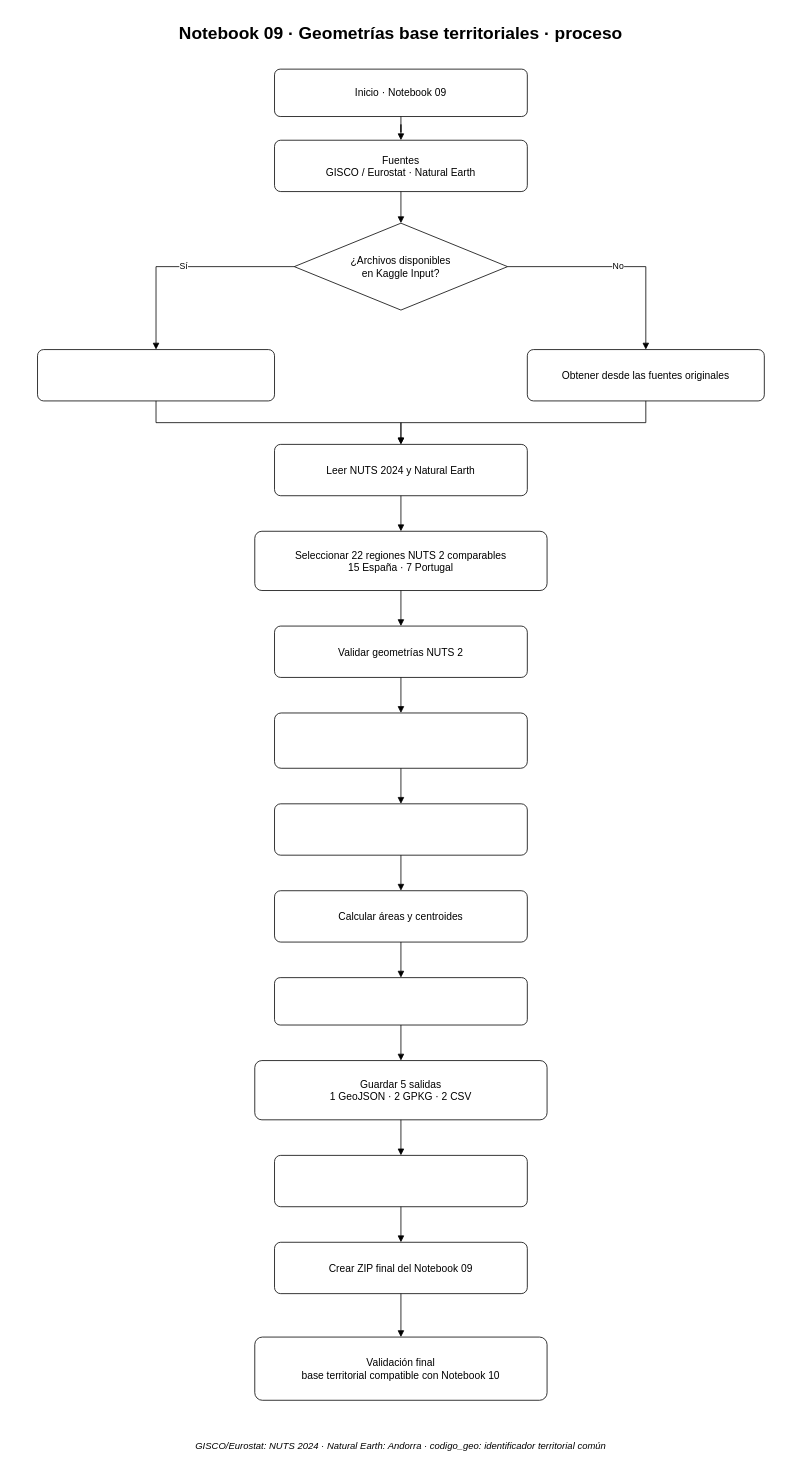
Some shapes in this 801 by 1477 pixel diagram are drawn without their labels. Here are the shapes that lost their labels. From the top down, the centre of each, then its label:
the point at 156,375: Reutilizar archivos preparados
the point at 400,740: Preparar Andorra unidad nacional complementaria
the point at 400,829: Integrar 23 territorios
the point at 400,1001: Generar 2 mapas
the point at 400,1181: Crear 2 dashboards HTML
